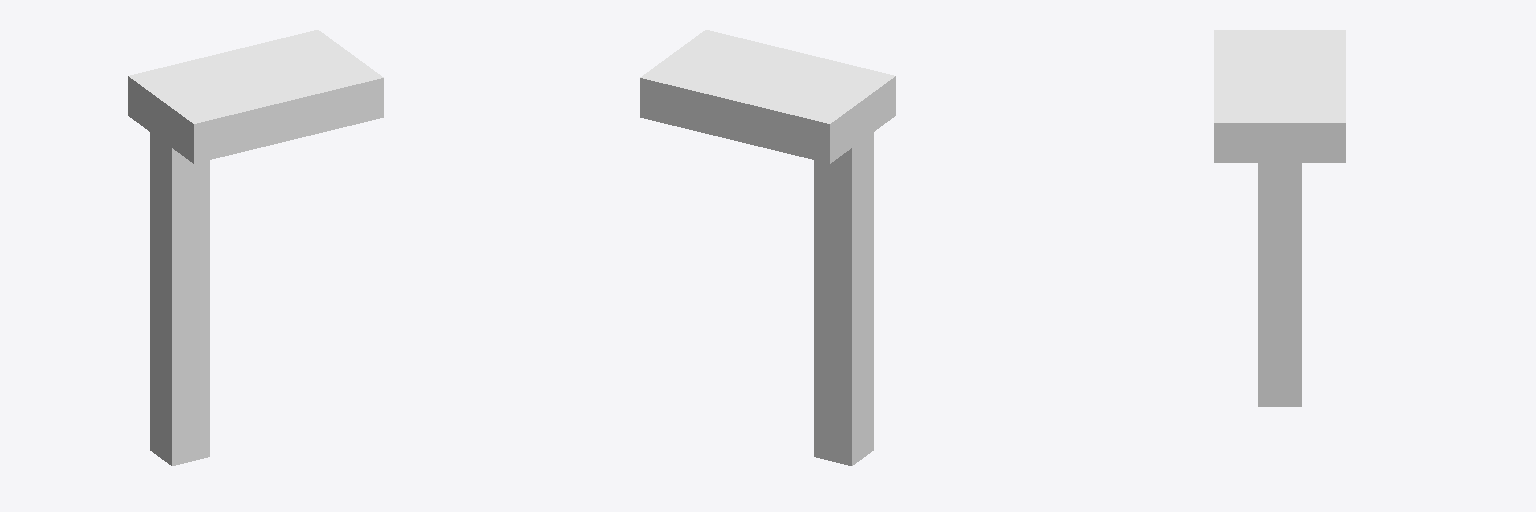
Rendered from Kuwa.obj.
3 views of the same model, side by side, from view 1: azimuth 30°, elevation 25°; view 2: azimuth 150°, elevation 25°; view 3: azimuth 270°, elevation 25° (orthographic).
Parts seen in each view (by area): view 1: object 1; view 2: object 1; view 3: object 1.
Boxes of the visible parts, x1=… form: object 1: x1=128, y1=30, x2=383, y2=465; object 1: x1=640, y1=30, x2=895, y2=465; object 1: x1=1214, y1=30, x2=1345, y2=406.
Bounding box in the file's own units: 0.5 × 0.9 × 0.3.